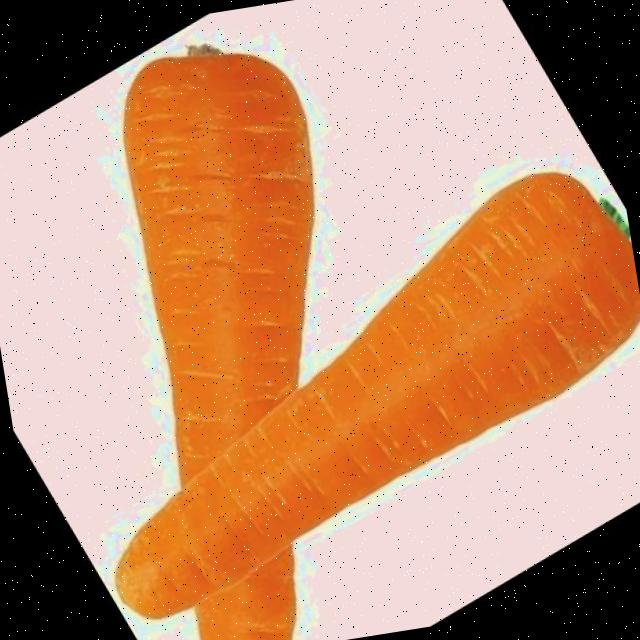carrot: (118, 173, 640, 617), (124, 55, 314, 640)
